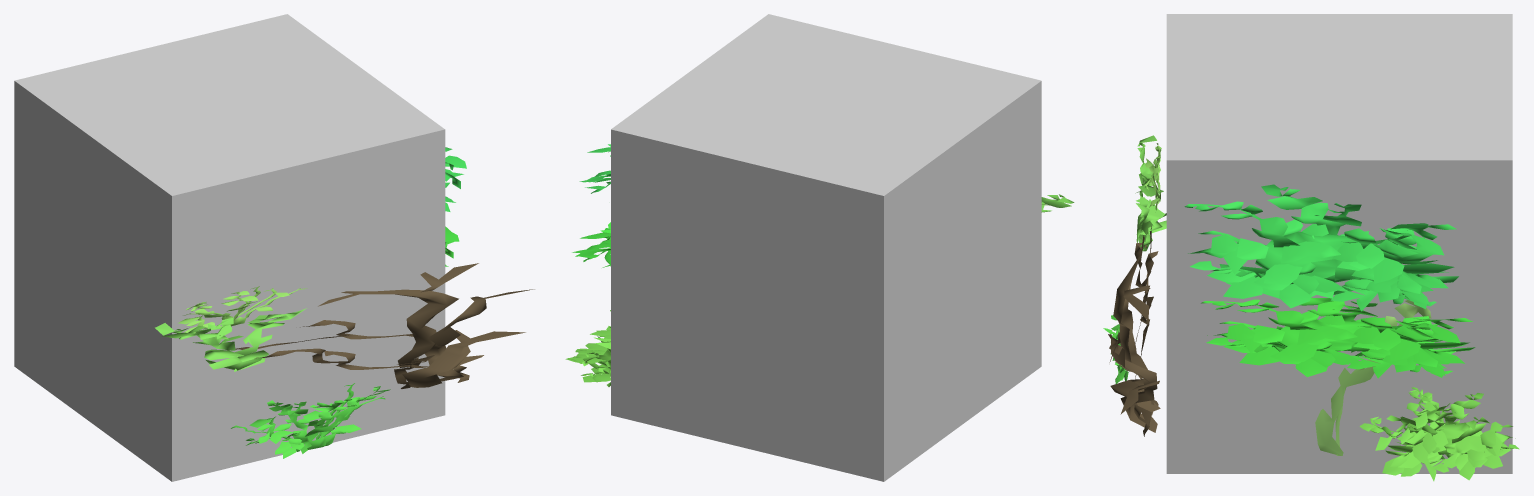
3 views of the same model, side by side, from view 1: azimuth 30°, elevation 25°; view 2: azimuth 150°, elevation 25°; view 3: azimuth 270°, elevation 25° (orthographic). The views are drawn at different scales.
Parts seen in each view (by area): view 1: Cube, SM_Vine_Plant_Climber_A_07, SM_Vine_Plant_Climber_A_04, SM_Vine_Plant_Climber_A_02, SM_Vine_Plant_Climber_A_06, SM_Vine_Plant_Climber_A_03; view 2: Cube, SM_Vine_Plant_Climber_A_05, SM_Vine_Plant_Climber_A_03.001; view 3: Cube, SM_Vine_Plant_Climber_A_03, SM_Vine_Plant_Climber_A_03.001, SM_Vine_Plant_Climber_A_05, SM_Vine_Plant_Climber_A_07, SM_Vine_Plant_Climber_A_01, SM_Vine_Plant_Climber_A_02, SM_Vine_Plant_Climber_A_06.
Boxes of the visible parts, left/top/right/bottom form: Cube: left=14, top=14, right=445, bottom=481; SM_Vine_Plant_Climber_A_07: left=227, top=263, right=534, bottom=388; SM_Vine_Plant_Climber_A_04: left=231, top=383, right=390, bottom=458; SM_Vine_Plant_Climber_A_02: left=155, top=308, right=306, bottom=371; SM_Vine_Plant_Climber_A_06: left=178, top=286, right=307, bottom=332; SM_Vine_Plant_Climber_A_03: left=445, top=147, right=466, bottom=211; Cube: left=611, top=14, right=1041, bottom=481; SM_Vine_Plant_Climber_A_05: left=565, top=310, right=610, bottom=386; SM_Vine_Plant_Climber_A_03.001: left=572, top=222, right=610, bottom=267; Cube: left=1166, top=14, right=1512, bottom=473; SM_Vine_Plant_Climber_A_03: left=1184, top=184, right=1458, bottom=311; SM_Vine_Plant_Climber_A_03.001: left=1201, top=297, right=1475, bottom=378; SM_Vine_Plant_Climber_A_05: left=1359, top=387, right=1519, bottom=481; SM_Vine_Plant_Climber_A_07: left=1108, top=226, right=1160, bottom=436; SM_Vine_Plant_Climber_A_01: left=1315, top=292, right=1431, bottom=455; SM_Vine_Plant_Climber_A_02: left=1135, top=135, right=1166, bottom=251; SM_Vine_Plant_Climber_A_06: left=1144, top=143, right=1161, bottom=210.
Bounding box in the file's own units: 2.68 × 2 × 2.41.
